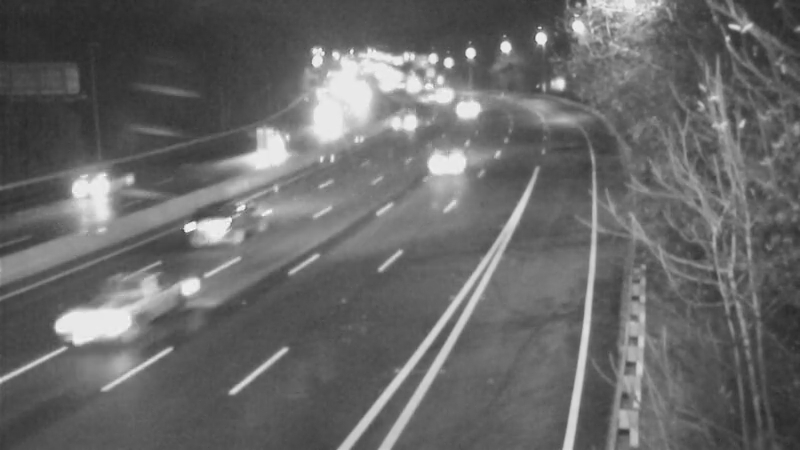vehicle: (41, 270, 151, 380), (410, 122, 490, 202), (179, 180, 259, 260), (63, 143, 143, 223), (385, 64, 435, 114), (412, 65, 462, 115), (402, 75, 452, 125), (445, 82, 495, 132), (373, 94, 423, 144), (244, 120, 294, 170), (306, 93, 356, 143)
